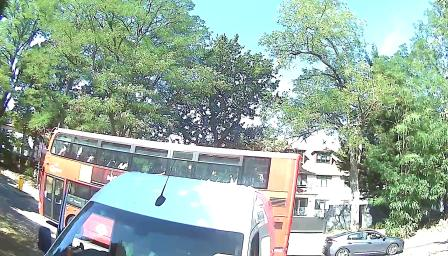Cars: (54, 129, 300, 251), (324, 234, 411, 254)
